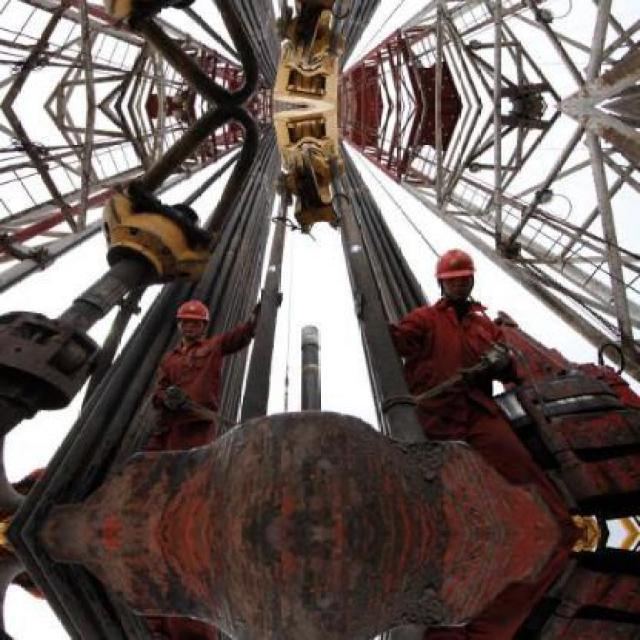gloves: (461, 341, 513, 382), (163, 385, 187, 410), (247, 300, 263, 336)
hard-hat: (435, 248, 475, 280), (174, 300, 210, 322)
person: (387, 247, 587, 549), (140, 298, 264, 452)
ppe-suit: (386, 295, 542, 488), (139, 314, 257, 450)
